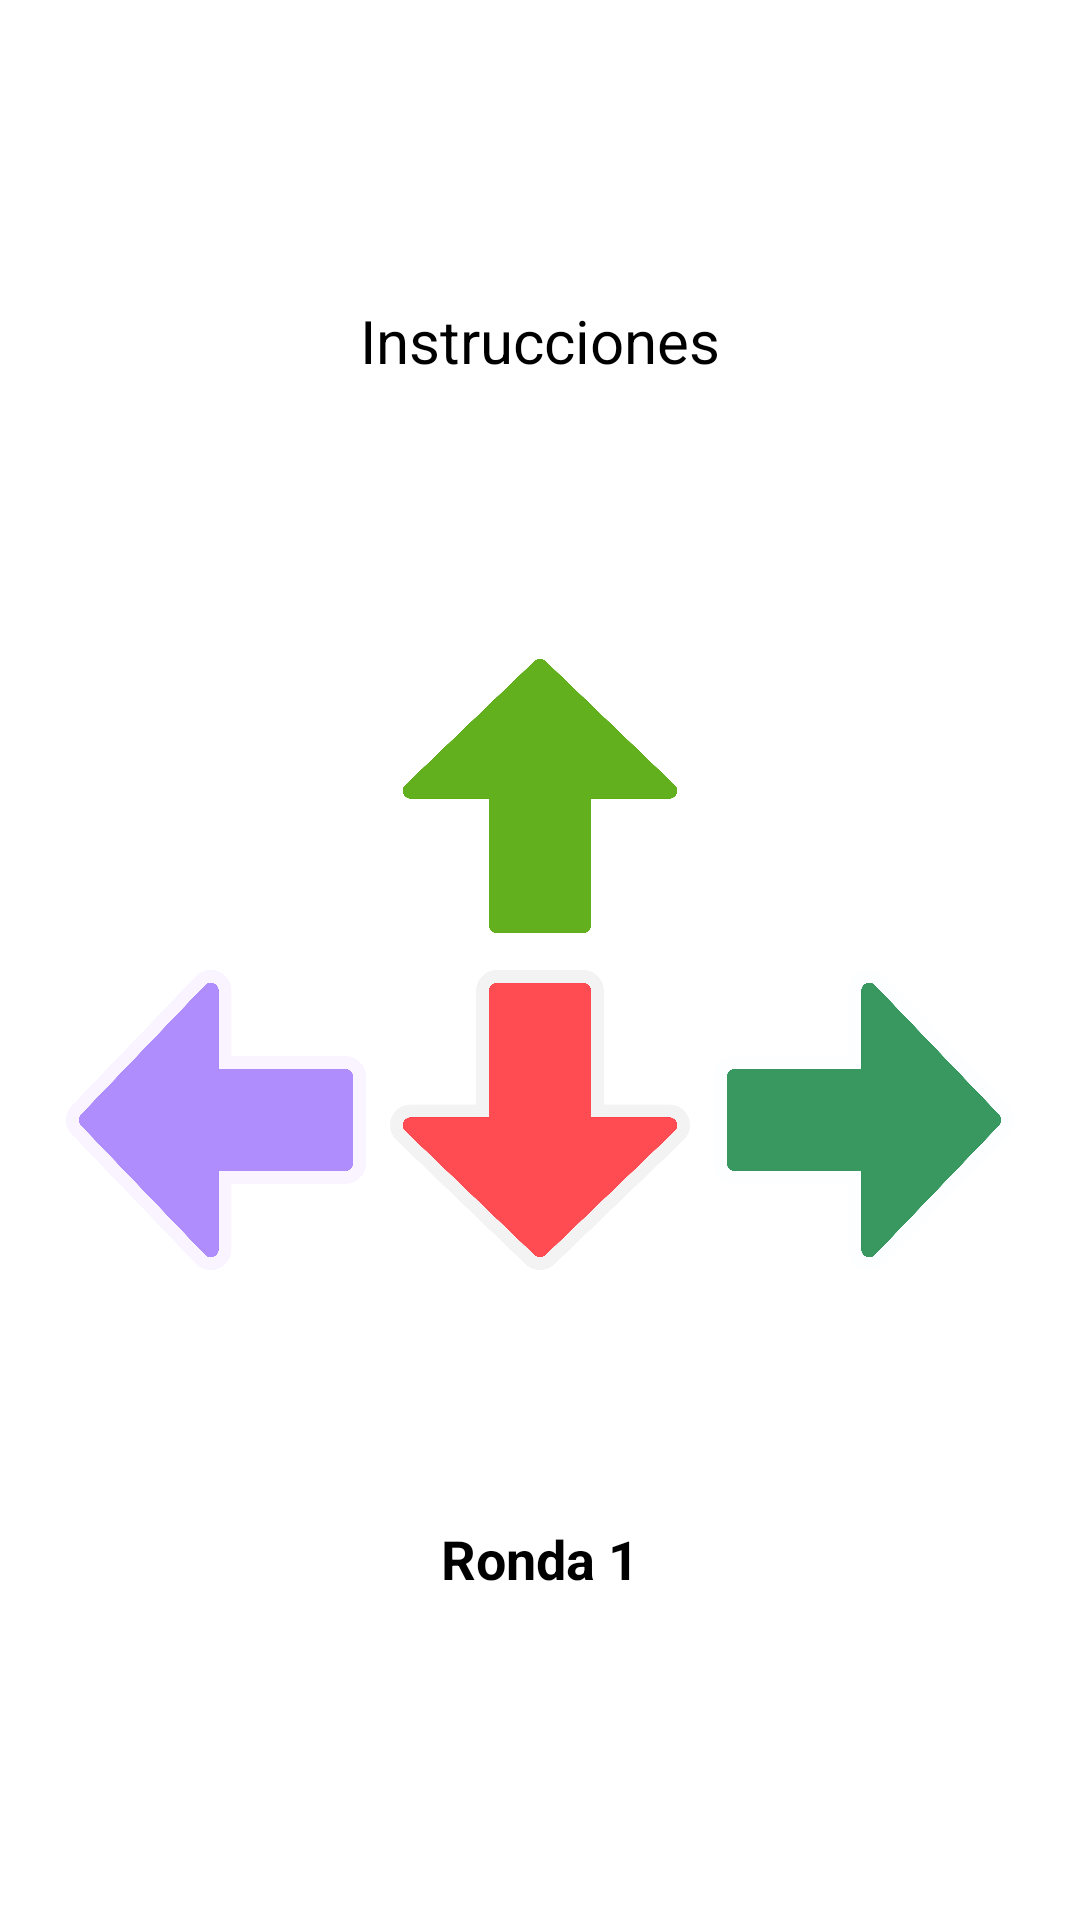

Icon bounding boxes for this 1080px×1920px phone screenshot, format (x1, y1, x2, y2):
down arrow: (403, 983, 677, 1257)
left arrow: (79, 983, 353, 1257)
right arrow: (727, 983, 1001, 1257)
up arrow: (403, 659, 677, 933)
